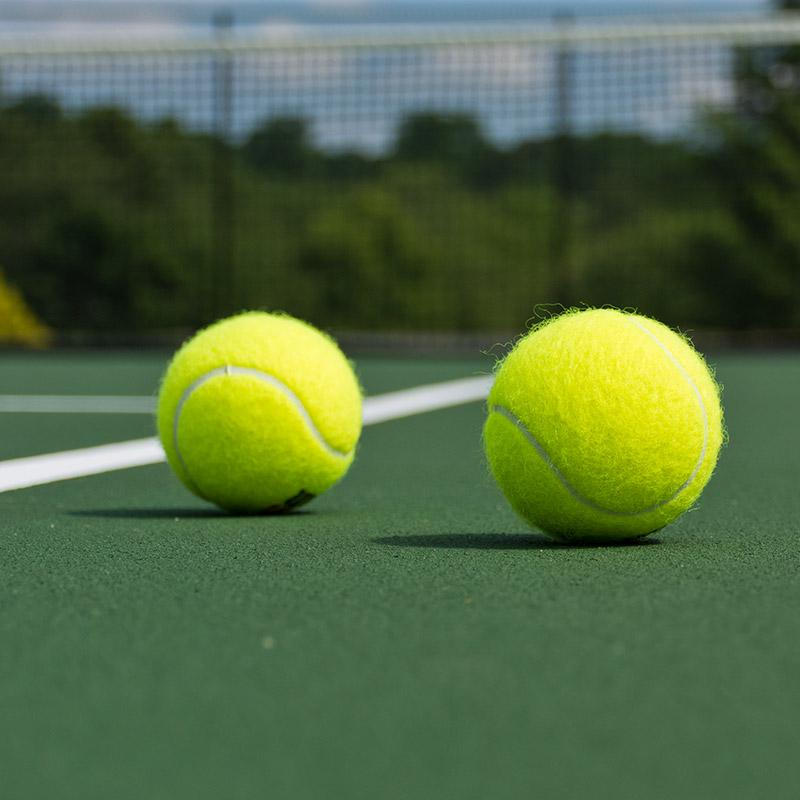aim: (485, 309, 724, 542), (157, 308, 366, 519)
